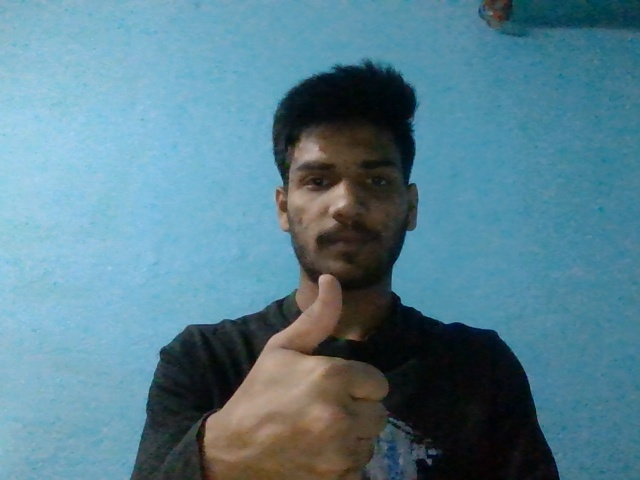ThumbsUp: (226, 274, 389, 480)
